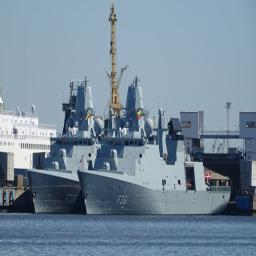Fragata: (77, 72, 235, 219), (21, 48, 94, 217)
